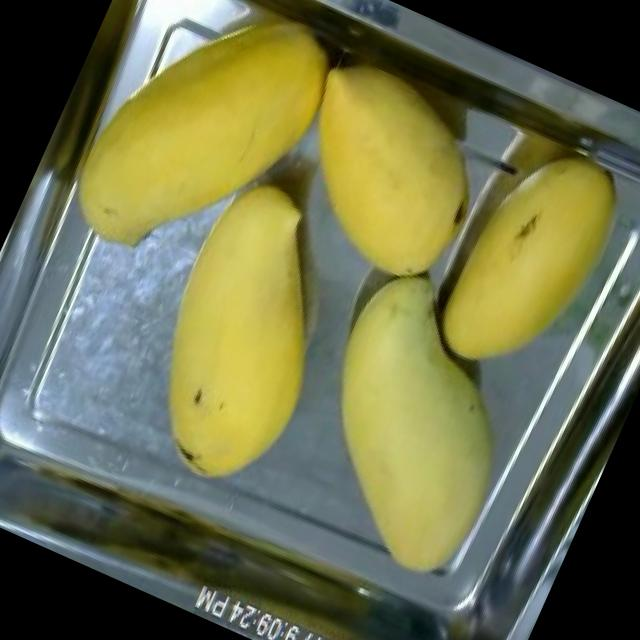fruit: (255, 249, 572, 603), (100, 152, 390, 514), (42, 0, 367, 310), (252, 37, 516, 307), (412, 117, 640, 412)
